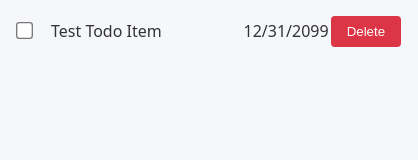
Scenario: TodoItem › shows error if deleteTodo fails
The image size is (418, 160).
Click the button "Delete" at [366, 32], box top-left (331, 16), bottom-right (401, 47)
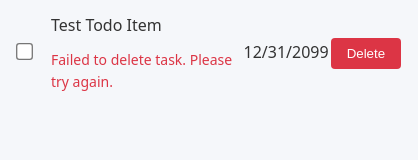
expect the text "Failed to delete task. Please try again." is shown: met, box top-left (51, 49), bottom-right (242, 93)
